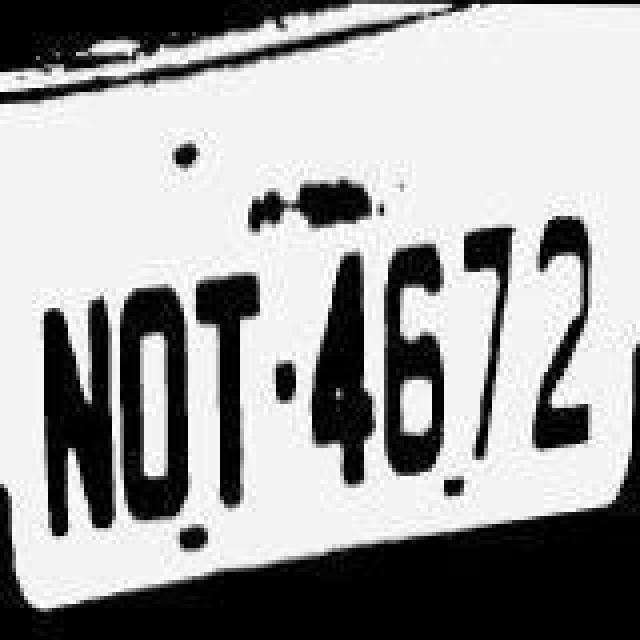2: (528, 208, 608, 456)
4: (308, 236, 380, 488)
6: (378, 230, 454, 478)
7: (454, 210, 522, 466)
N: (40, 288, 120, 544)
O: (114, 274, 190, 526)
T: (192, 258, 264, 514)
